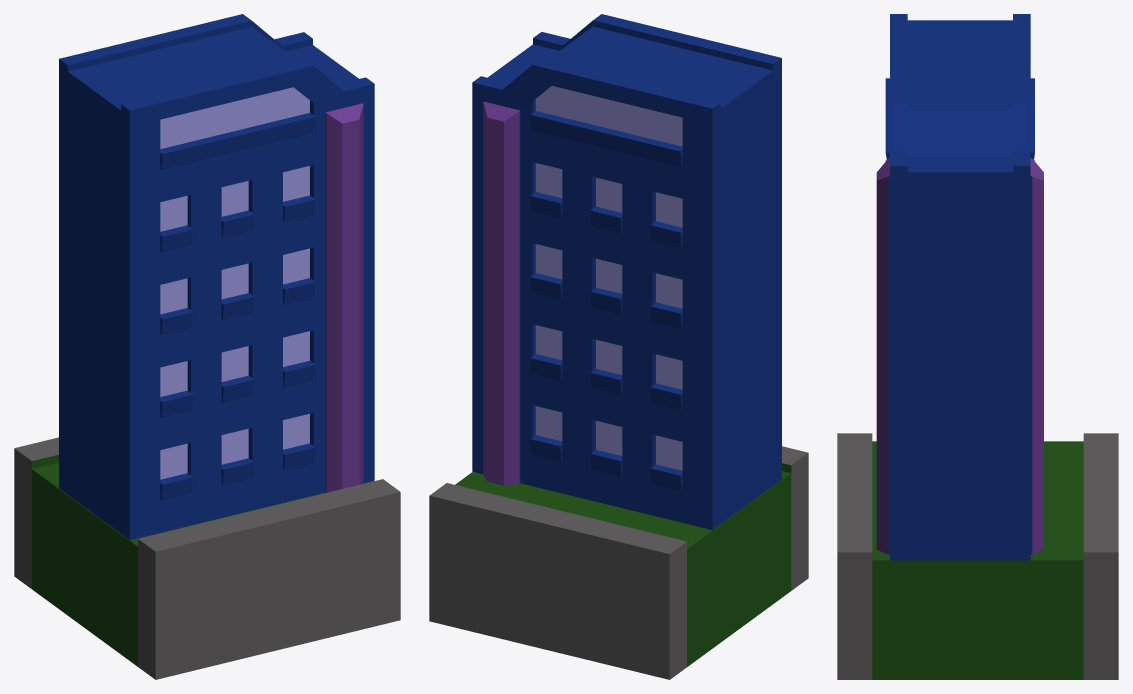
The model's file is City_Tiles324567543.fbx.
3 views of the same model, side by side, from view 1: azimuth 30°, elevation 25°; view 2: azimuth 150°, elevation 25°; view 3: azimuth 270°, elevation 25° (orthographic).
Visible parts, largest first — view 1: Build_1.006, Build_1.093; view 2: Build_1.006, Build_1.093; view 3: Build_1.006, Build_1.093.
Part boxes in pixels (left/top/right/bottom): Build_1.006: left=59, top=14, right=374, bottom=539; Build_1.093: left=14, top=437, right=400, bottom=679; Build_1.006: left=472, top=14, right=781, bottom=529; Build_1.093: left=429, top=446, right=808, bottom=679; Build_1.006: left=876, top=14, right=1043, bottom=560; Build_1.093: left=837, top=433, right=1118, bottom=679.
Size of the model in its own units: 200 by 429 by 200.
